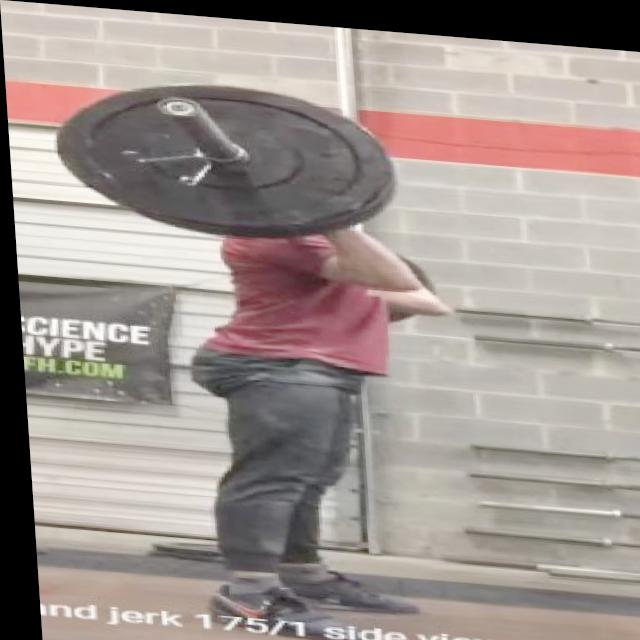barbell: (46, 64, 402, 244)
